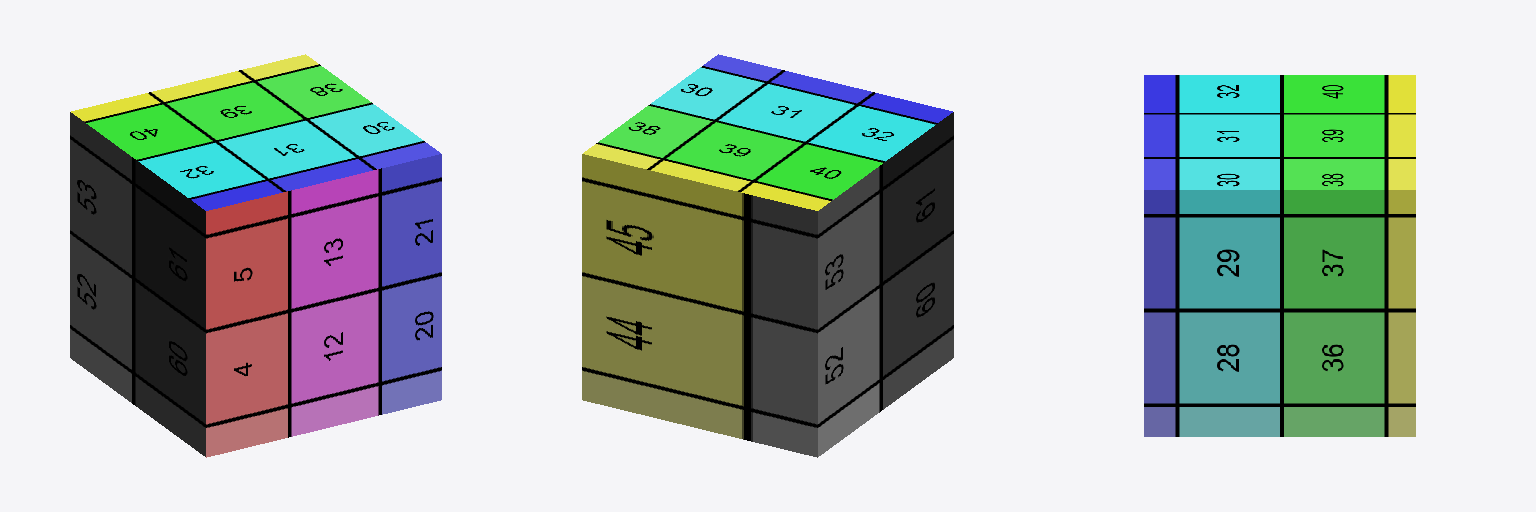
The picture shows the model from 3 angles: view 1: azimuth 30°, elevation 25°; view 2: azimuth 150°, elevation 25°; view 3: azimuth 270°, elevation 25°; orthographic projection.
Parts seen in each view (by area): view 1: Cube; view 2: Cube; view 3: Cube.
Boxes of the visible parts, <box> form: Cube: <box>70,54,441,457</box>; Cube: <box>582,54,953,457</box>; Cube: <box>1144,75,1415,436</box>.
Bounding box in the file's own units: 2 × 2 × 2.
1 materials, 1 textured.